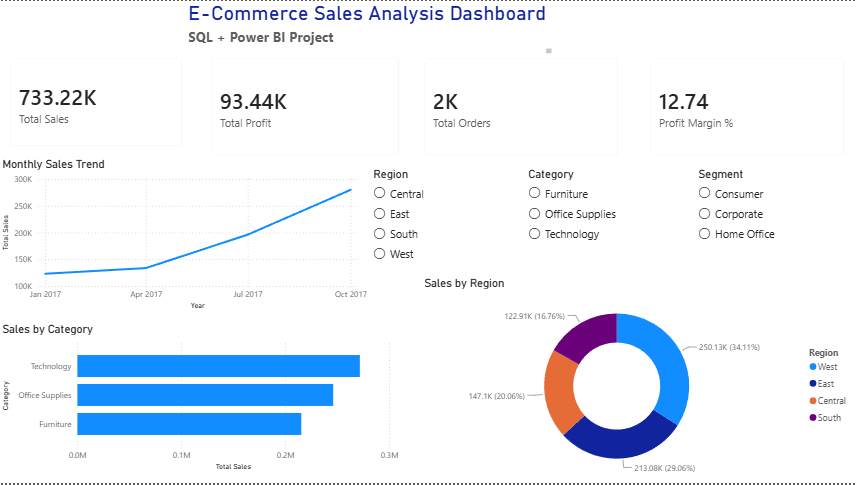

What the dashboard file says about the page in this screenshot:
{"tool":"powerbi","page":{"name":"Executive Dashboard","canvas":[1280,720],"ordinal":0},"visuals":[{"type":"cardVisual","fields":{"Data":["Sample - Superstore data set.Total Sales"]},"box":[0,68.3,290.5,165.1],"z":0},{"type":"cardVisual","fields":{"Data":["Sample - Superstore data set.Total Profit"]},"box":[300,68.3,314.3,179.4],"z":1000},{"type":"cardVisual","fields":{"Data":["Sample - Superstore data set.Total Orders"]},"box":[617.5,68.3,323.8,179.4],"z":2000},{"type":"cardVisual","fields":{"Data":["Sample - Superstore data set.Profit Margin %"]},"box":[955.6,68.3,323.8,179.4],"z":3000},{"type":"lineChart","title":"Monthly Sales Trend","fields":{"Category":["Sample - Superstore data set.Order Date.Variation.Date Hierarchy.Year","Sample - Superstore data set.Order Date.Variation.Date Hierarchy.Quarter","Sample - Superstore data set.Order Date.Variation.Date Hierarchy.Month","Sample - Superstore data set.Order Date.Variation.Date Hierarchy.Day"],"Y":["Sample - Superstore data set.Total Sales"]},"box":[0,233.3,554,231.7],"z":4000},{"type":"clusteredBarChart","title":"Sales by Category","fields":{"Category":["Sample - Superstore data set.Category"],"Y":["Sample - Superstore data set.Total Sales"]},"box":[0,478.6,601.4,225.7],"z":5000},{"type":"donutChart","title":"Sales by Region","fields":{"Category":["Sample - Superstore data set.Region"],"Y":["Sample - Superstore data set.Total Sales"]},"box":[630.2,411.1,649.2,309.5],"z":6000},{"type":"listSlicer","fields":{"Values":["Sample - Superstore data set.Region"]},"box":[554,247.6,231.7,163.5],"z":7000},{"type":"listSlicer","fields":{"Values":["Sample - Superstore data set.Category"]},"box":[785.7,247.6,252.4,163.5],"z":8000},{"type":"listSlicer","fields":{"Values":["Sample - Superstore data set.Segment"]},"box":[1038.1,247.6,241.3,163.5],"z":9000},{"type":"textbox","title":"E-Commerce Sales Analysis Dashboard","box":[277.8,0,552.4,82.5],"z":10000}]}

Visuals, with their boxes in screenshot pixels (x1, y1, x2, y2), scaled from the page's 1280x720 canvas onto the 857x485 screenshot:
cardVisual - Sample - Superstore data set.Total Sales: <bbox>0, 46, 194, 157</bbox>
cardVisual - Sample - Superstore data set.Total Profit: <bbox>201, 46, 411, 167</bbox>
cardVisual - Sample - Superstore data set.Total Orders: <bbox>413, 46, 630, 167</bbox>
cardVisual - Sample - Superstore data set.Profit Margin %: <bbox>640, 46, 856, 167</bbox>
"Monthly Sales Trend" lineChart: <bbox>0, 157, 371, 313</bbox>
"Sales by Category" clusteredBarChart: <bbox>0, 322, 403, 474</bbox>
"Sales by Region" donutChart: <bbox>422, 277, 856, 484</bbox>
listSlicer - Sample - Superstore data set.Region: <bbox>371, 167, 526, 277</bbox>
listSlicer - Sample - Superstore data set.Category: <bbox>526, 167, 695, 277</bbox>
listSlicer - Sample - Superstore data set.Segment: <bbox>695, 167, 856, 277</bbox>
"E-Commerce Sales Analysis Dashboard" textbox: <bbox>186, 0, 556, 56</bbox>
